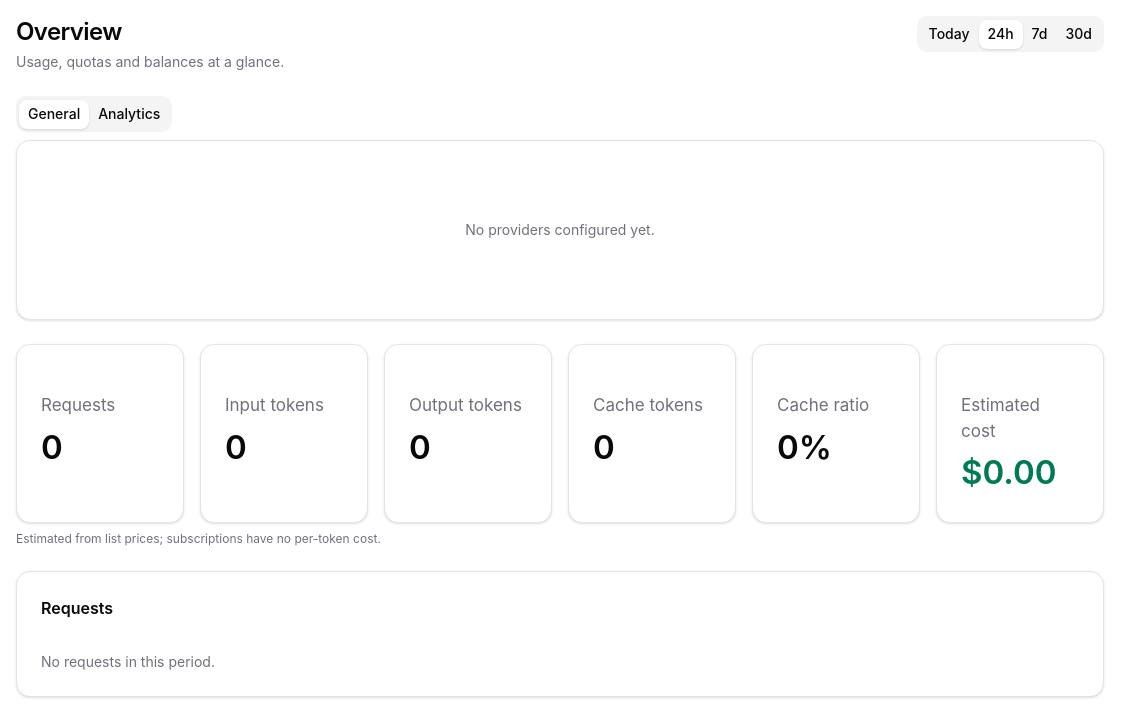
Overview Analytics tab › shows the empty state when stats has no plottable models
Expected: the text "No requests in this period." is shown, x1=41 y1=652 x2=215 y2=670
Click the tab "Analytics" at [129, 114], box x1=89 y1=100 x2=169 y2=128
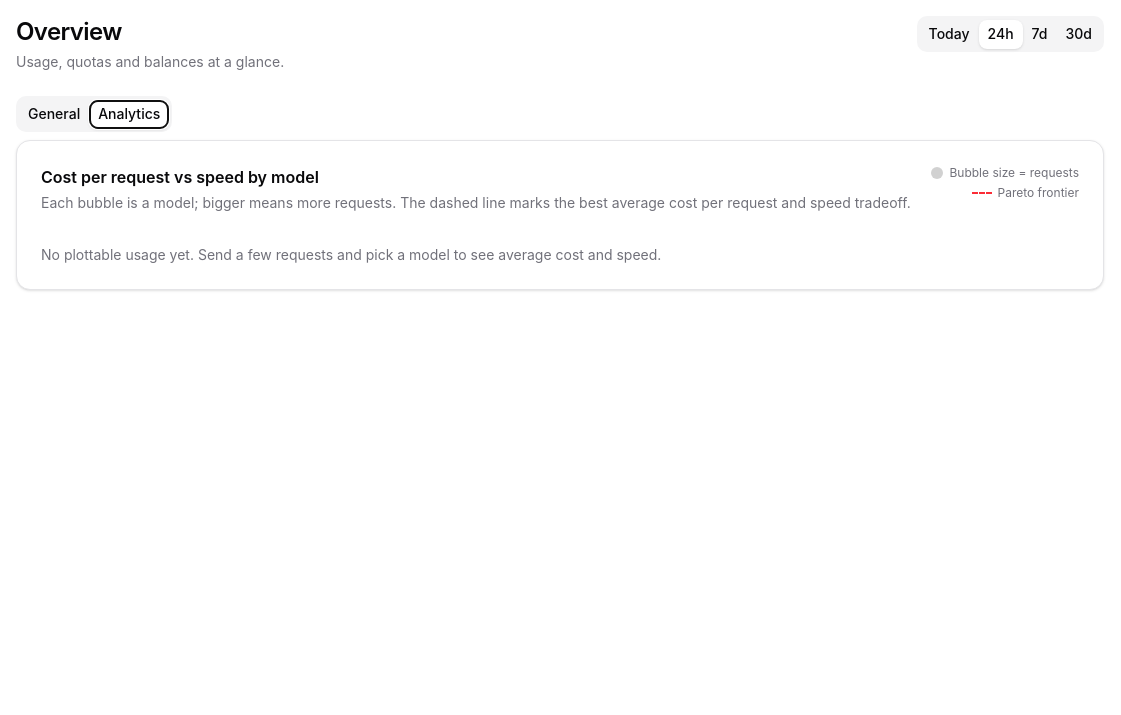
Now the text "No plottable usage yet" is shown, box x1=41 y1=246 x2=661 y2=263
